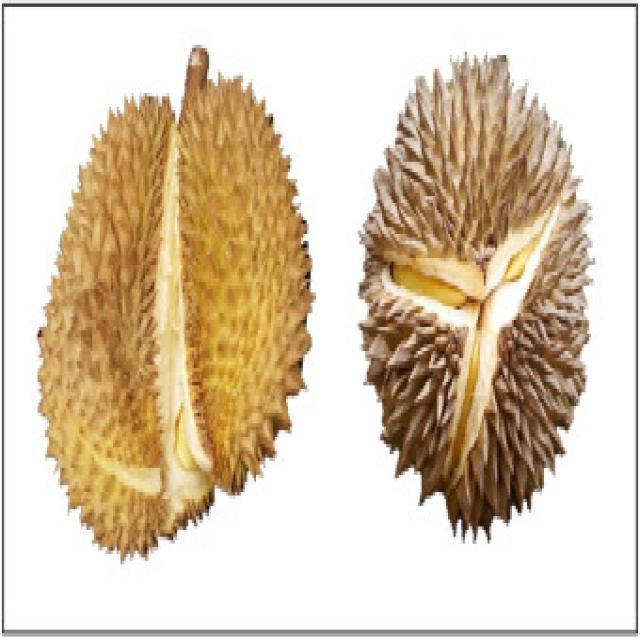defective: (38, 72, 312, 558), (354, 55, 594, 550)
